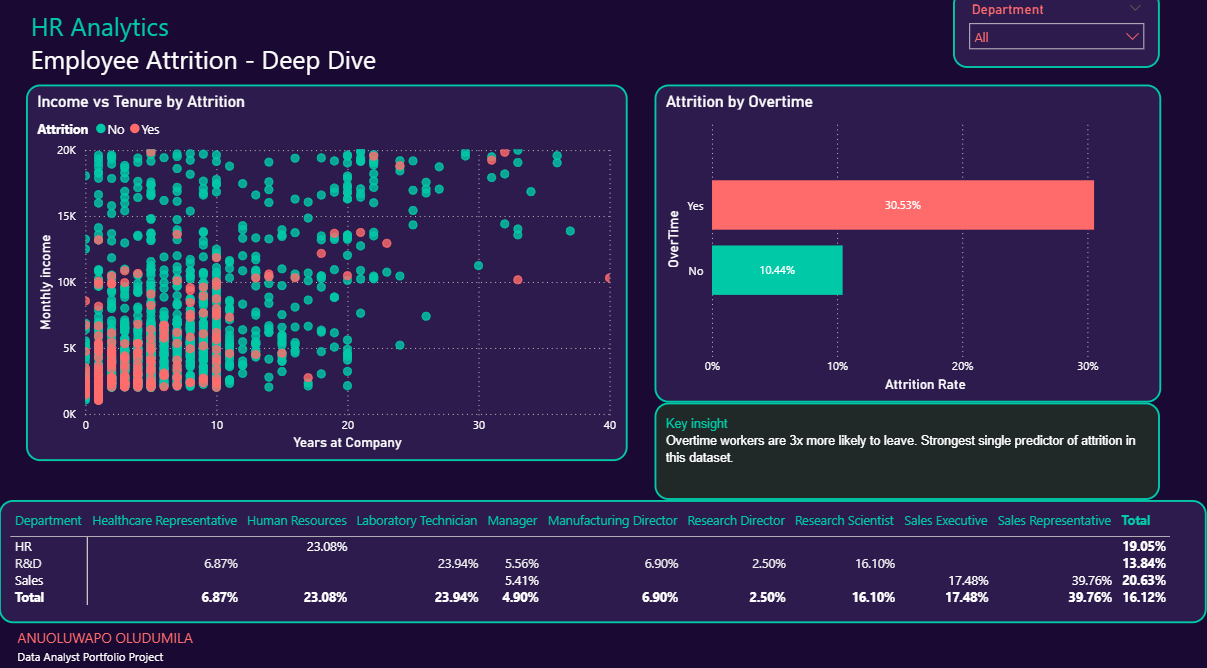

The dashboard page shown, as its layout file describes it:
{"tool":"powerbi","page":{"name":"Deep dive","canvas":[1280,720],"ordinal":1},"visuals":[{"type":"scatterChart","title":"Income vs Tenure by Attrition","fields":{"X":["Sum(HR_Analytics.YearsAtCompany)"],"Y":["Sum(HR_Analytics.MonthlyIncome)"],"Series":["HR_Analytics.Attrition"],"Category":["HR_Analytics.EmployeeNumber"]},"box":[28.6,100.2,637.8,399.2],"z":0},{"type":"clusteredBarChart","title":"Attrition by Overtime","fields":{"Category":["HR_Analytics.OverTime"],"Y":["HR_Analytics.Attrition Rate"]},"box":[695.1,100.2,537.6,337.2],"z":2000},{"type":"slicer","fields":{"Values":["HR_Analytics.Department"]},"box":[1011.6,0,219.5,82.7],"z":4000},{"type":"pivotTable","fields":{"Rows":["HR_Analytics.Department"],"Columns":["HR_Analytics.JobRole"],"Values":["HR_Analytics.Attrition Rate"]},"box":[0,540.8,1280.4,130.4],"z":4001},{"type":"textbox","box":[695.1,437.4,536,103.4],"z":4002},{"type":"textbox","box":[28.6,14.3,413.6,85.9],"z":4003},{"type":"textbox","box":[14.3,671.2,299,49.3],"z":4004}]}

Visuals, with their boxes in screenshot pixels (x1, y1, x2, y2), scaled from the page's 1280x720 canvas onto the 1207x668 screenshot:
"Income vs Tenure by Attrition" scatterChart: select_region(27, 93, 628, 463)
"Attrition by Overtime" clusteredBarChart: select_region(655, 93, 1162, 406)
slicer - HR_Analytics.Department: select_region(954, 0, 1161, 77)
pivotTable - HR_Analytics.Department x HR_Analytics.JobRole: select_region(0, 502, 1206, 623)
textbox: select_region(655, 406, 1161, 502)
textbox: select_region(27, 13, 417, 93)
textbox: select_region(13, 623, 295, 667)
